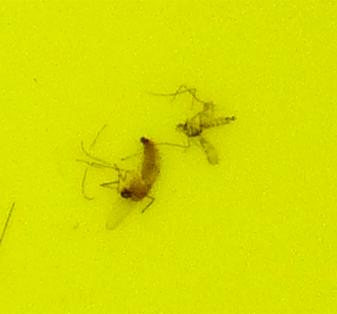Nematocera: (100, 134, 162, 214), (174, 100, 237, 165)
